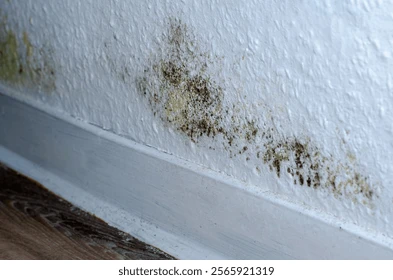schimmel: (163, 79, 224, 141), (265, 152, 369, 188), (154, 35, 193, 76), (6, 46, 35, 82), (282, 131, 314, 149)
